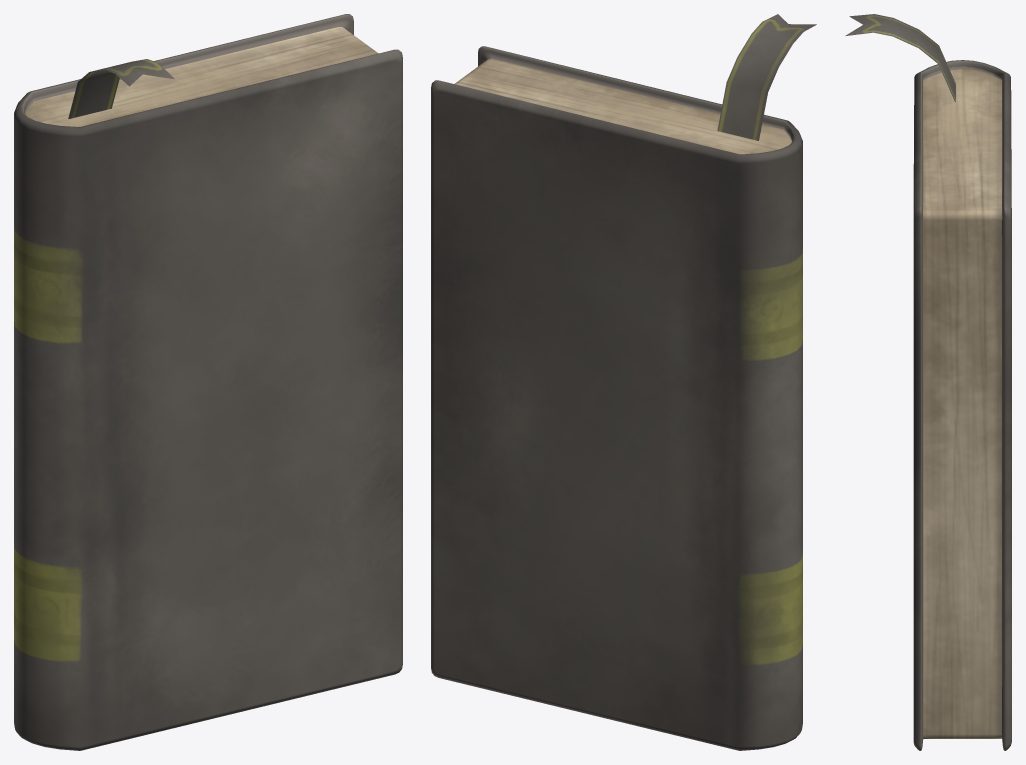
File: Libro 3 Fin.FBX
3 renders of one model, left to right at view 1: azimuth 30°, elevation 25°; view 2: azimuth 150°, elevation 25°; view 3: azimuth 270°, elevation 25°, orthographic. The views are drawn at different scales.
Visible parts, largest first — view 1: Libro3; view 2: Libro3; view 3: Libro3.
Part boxes in pixels (x1,y1,x2,y2): Libro3: [14, 14, 402, 750]; Libro3: [431, 14, 816, 750]; Libro3: [845, 14, 1011, 750].
Bounding box in the file's own units: 17.2 × 31.91 × 7.96.
1 material, 1 textured.
